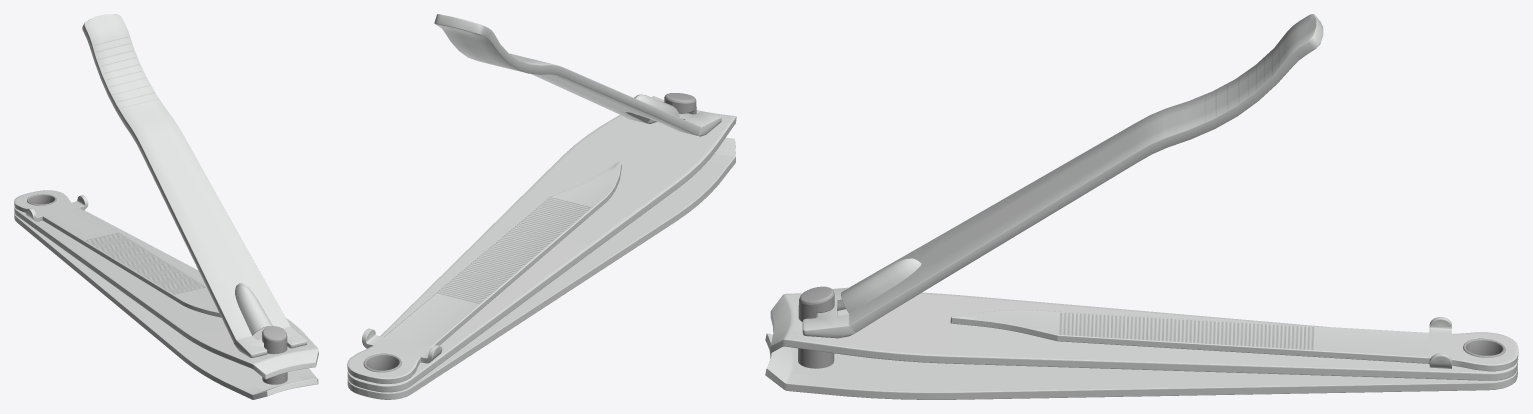
The model's file is nail cutter.fbx.
3 renders of one model, left to right at view 1: azimuth 30°, elevation 25°; view 2: azimuth 150°, elevation 25°; view 3: azimuth 270°, elevation 25°, orthographic. The views are drawn at different scales.
Visible parts, largest first — view 1: SM_Nail_Cutter_MI_Nail_Cutter_Mat_0; view 2: SM_Nail_Cutter_MI_Nail_Cutter_Mat_0; view 3: SM_Nail_Cutter_MI_Nail_Cutter_Mat_0.
Boxes of the visible parts, x1,y1,x2,y2 form: SM_Nail_Cutter_MI_Nail_Cutter_Mat_0: [14, 14, 318, 399]; SM_Nail_Cutter_MI_Nail_Cutter_Mat_0: [347, 14, 736, 399]; SM_Nail_Cutter_MI_Nail_Cutter_Mat_0: [765, 14, 1518, 399].
Bounding box in the file's own units: 183 × 478 × 926.
1 material, 1 textured.
